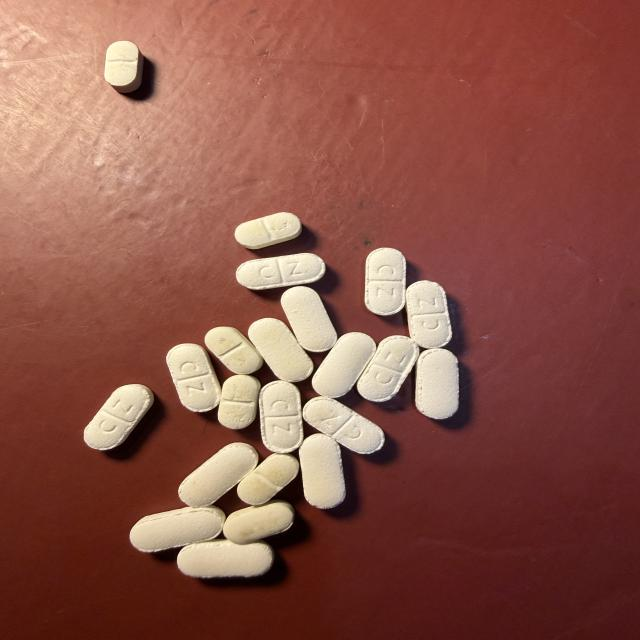pill: (179, 443, 257, 506), (84, 384, 154, 450), (303, 397, 384, 453), (130, 507, 225, 552), (248, 318, 313, 382), (312, 333, 375, 397), (357, 336, 419, 401), (177, 540, 274, 578), (281, 287, 337, 352), (167, 344, 220, 412), (300, 434, 345, 508), (236, 253, 325, 290), (259, 381, 303, 453), (223, 500, 294, 544), (406, 281, 452, 348), (238, 454, 299, 504), (416, 349, 458, 419), (205, 327, 263, 374), (365, 248, 405, 315), (235, 213, 302, 249), (218, 375, 260, 429), (105, 41, 143, 93)
